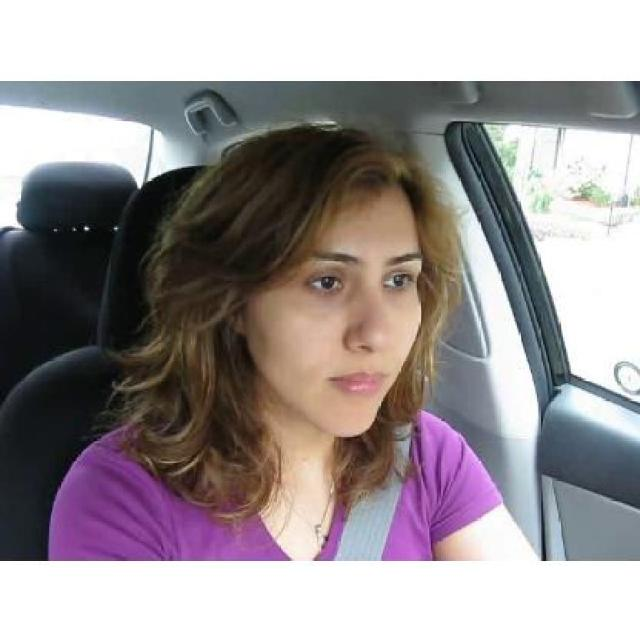attentif: (230, 125, 422, 438)
